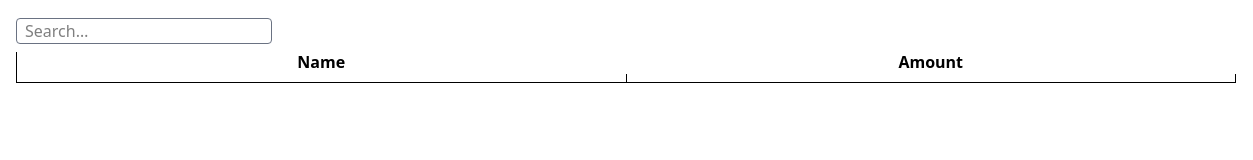
GenericTable › when columns are searchable › should filter rows down to those matching the search term
Type "food" into the field with placeholder "Search…" at (144, 31), box [16,18,272,44]
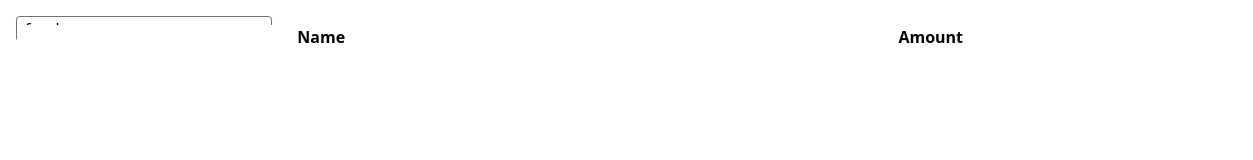
expect the number of "TableRow" components is 1: met, box [16,16,1236,50]
